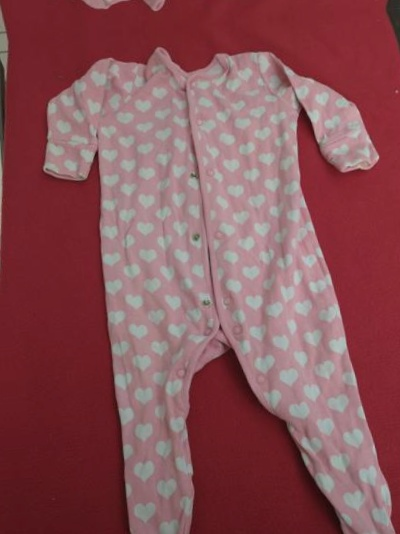Body: (11, 15, 400, 534), (0, 0, 379, 35), (378, 0, 400, 0)
